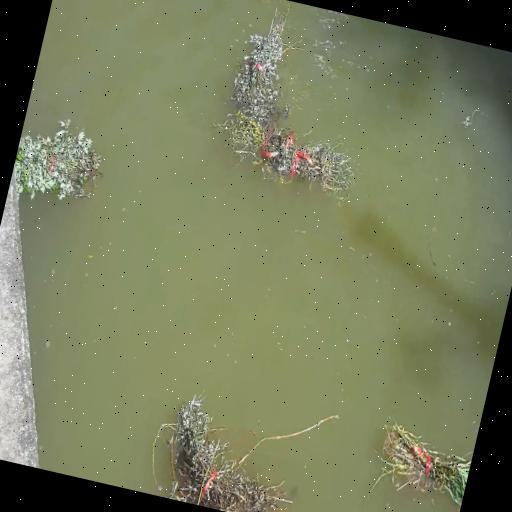twig: (207, 34, 369, 194), (150, 391, 322, 512), (8, 108, 106, 220), (368, 414, 478, 502)
